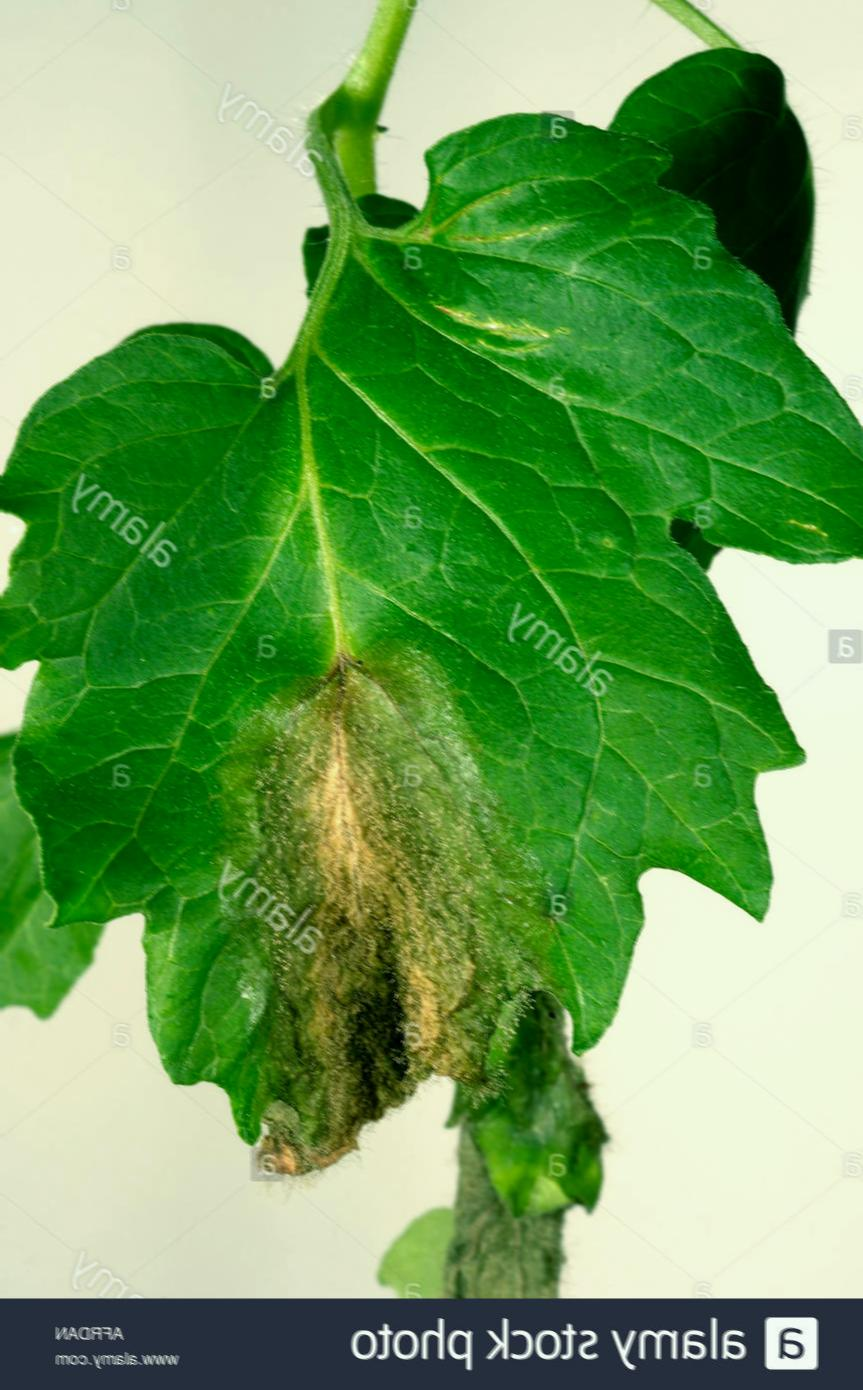Tomato mold leaf: (10, 112, 862, 1219)
